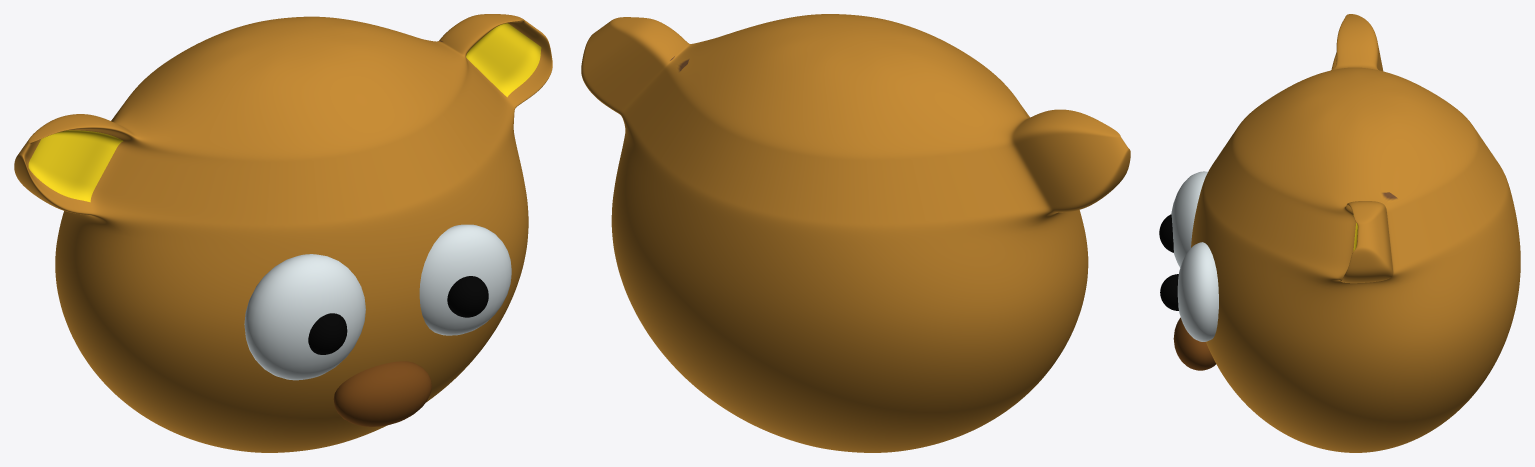
The model's file is pet_char 1.fbx.
The picture shows the model from 3 angles, left to right: view 1: azimuth 30°, elevation 25°; view 2: azimuth 150°, elevation 25°; view 3: azimuth 270°, elevation 25°; orthographic projection. The views are drawn at different scales.
Visible parts, largest first — view 1: Sphere, Sphere.001, Sphere.002, Sphere.003, Sphere.005, Sphere.004; view 2: Sphere; view 3: Sphere, Sphere.002, Sphere.001, Sphere.003, Sphere.005, Sphere.004.
Part boxes in pixels (x1,y1,x2,y2): Sphere: (14, 14, 552, 452); Sphere.001: (244, 254, 365, 380); Sphere.002: (419, 224, 511, 335); Sphere.003: (333, 361, 431, 426); Sphere.005: (447, 276, 488, 317); Sphere.004: (308, 313, 347, 354); Sphere: (581, 14, 1130, 452); Sphere: (1191, 14, 1520, 452); Sphere.002: (1177, 242, 1218, 341); Sphere.001: (1171, 171, 1207, 267); Sphere.003: (1173, 317, 1215, 370); Sphere.005: (1160, 274, 1178, 310); Sphere.004: (1159, 214, 1173, 252).
Bounding box in the file's own units: 214 × 153 × 148.
